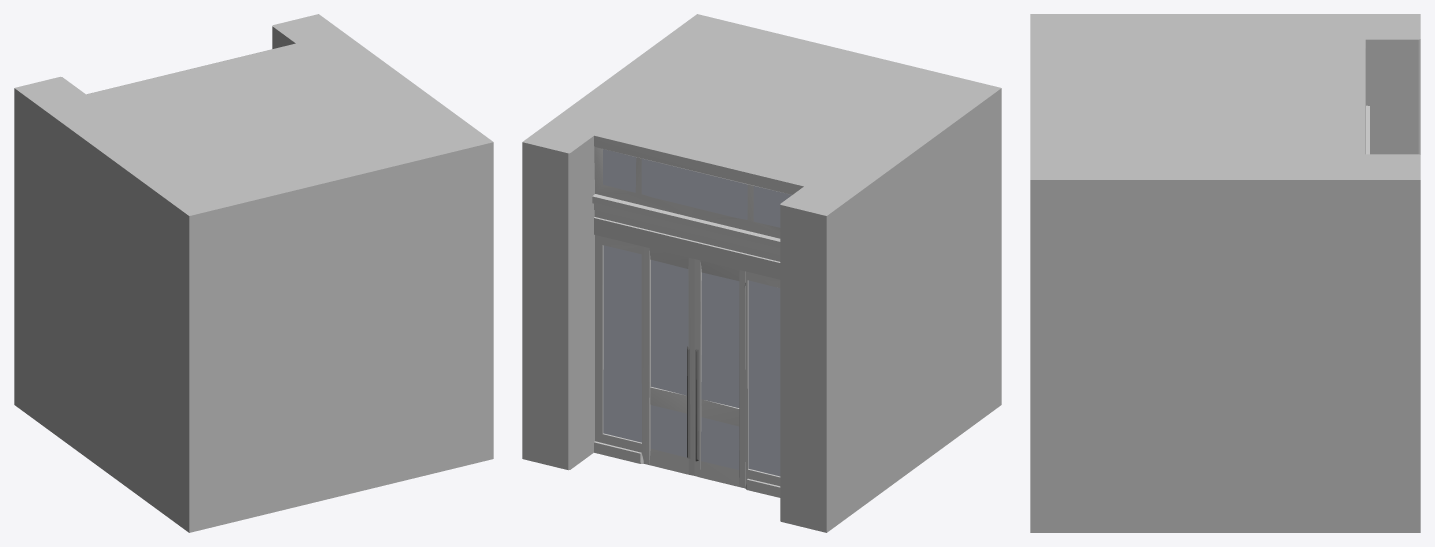
Rendered from Entrances.fbx.
3 views of the same model, side by side, from view 1: azimuth 30°, elevation 25°; view 2: azimuth 150°, elevation 25°; view 3: azimuth 270°, elevation 25° (orthographic). The views are drawn at different scales.
Visible parts, largest first — view 1: Entrances; view 2: Entrances; view 3: Entrances.
Part boxes in pixels (box(x1,y1,x2,y2)): Entrances: box(14, 14, 493, 532); Entrances: box(522, 14, 1001, 532); Entrances: box(1030, 14, 1420, 532).
Size of the model in its own units: 99.96 by 100 by 99.93.
